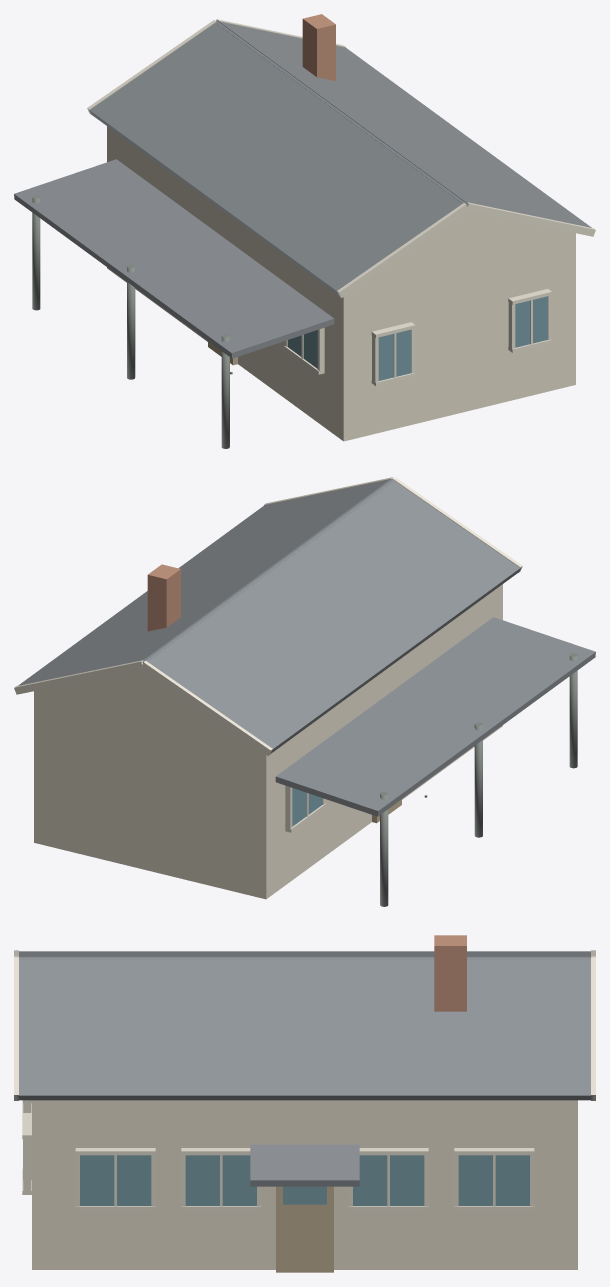
The model's file is rhine-station-modern_lod0.glb.
3 renders of one model, top to bottom at view 1: azimuth 30°, elevation 25°; view 2: azimuth 150°, elevation 25°; view 3: azimuth 270°, elevation 25°, orthographic. The views are drawn at different scales.
Visible parts, largest first — view 1: RF_Roof.001, RF_Station_Body, RF_PlatformCanopy, RF_Roof, RF_Gable, RF_StationChimney, RF_Vergeband.001, RF_Window.009, RF_Window, RF_Vergeband.003, RF_Ridge, RF_CanopyColumn.001 (+4 smaller); view 2: RF_Station_Body, RF_Roof.001, RF_PlatformCanopy, RF_Roof, RF_Gable.001, RF_StationChimney, RF_Vergeband.002, RF_Vergeband, RF_Ridge, RF_CanopyColumn, RF_CanopyColumn.001, RF_CanopyColumn.002 (+2 smaller); view 3: RF_Roof, RF_Station_Body, RF_PublicAwning, RF_Station_Door, RF_Roof.001, RF_Window.005, RF_Window.008, RF_Window.006, RF_Window.007, RF_StationChimney, RF_Ridge, RF_Station_DoorGlazing (+7 smaller).
Part boxes in pixels (<box>): RF_Roof.001: <box>89,22,463,295</box>; RF_Station_Body: <box>107,126,575,441</box>; RF_PlatformCanopy: <box>14,159,334,358</box>; RF_Roof: <box>218,21,591,227</box>; RF_Gable: <box>366,211,568,281</box>; RF_StationChimney: <box>302,14,335,80</box>; RF_Vergeband.001: <box>337,203,468,297</box>; RF_Window.009: <box>378,329,411,380</box>; RF_Window: <box>515,296,547,347</box>; RF_Vergeband.003: <box>466,202,595,236</box>; RF_Ridge: <box>216,21,467,205</box>; RF_CanopyColumn.001: <box>221,334,229,448</box>; RF_Station_Body: <box>34,584,502,899</box>; RF_Roof.001: <box>146,480,520,753</box>; RF_PlatformCanopy: <box>275,617,595,816</box>; RF_Roof: <box>18,479,391,685</box>; RF_Gable.001: <box>41,669,243,739</box>; RF_StationChimney: <box>147,564,180,631</box>; RF_Vergeband.002: <box>141,661,272,755</box>; RF_Vergeband: <box>14,660,143,694</box>; RF_Ridge: <box>142,479,394,662</box>; RF_CanopyColumn: <box>380,792,388,906</box>; RF_CanopyColumn.001: <box>569,653,577,768</box>; RF_CanopyColumn.002: <box>474,722,482,837</box>; RF_Roof: <box>17,958,592,1100</box>; RF_Station_Body: <box>32,1100,577,1269</box>; RF_PublicAwning: <box>250,1144,359,1186</box>; RF_Station_Door: <box>276,1186,333,1272</box>; RF_Roof.001: <box>17,951,591,957</box>; RF_Window.005: <box>80,1155,151,1205</box>; RF_Window.008: <box>458,1155,529,1205</box>; RF_Window.006: <box>185,1155,256,1205</box>; RF_Window.007: <box>353,1155,424,1205</box>; RF_StationChimney: <box>434,935,466,1011</box>; RF_Ridge: <box>19,957,590,959</box>; RF_Station_DoorGlazing: <box>283,1186,326,1204</box>.
Bounding box in the file's own units: 14.11 × 8.7 × 15.98.
